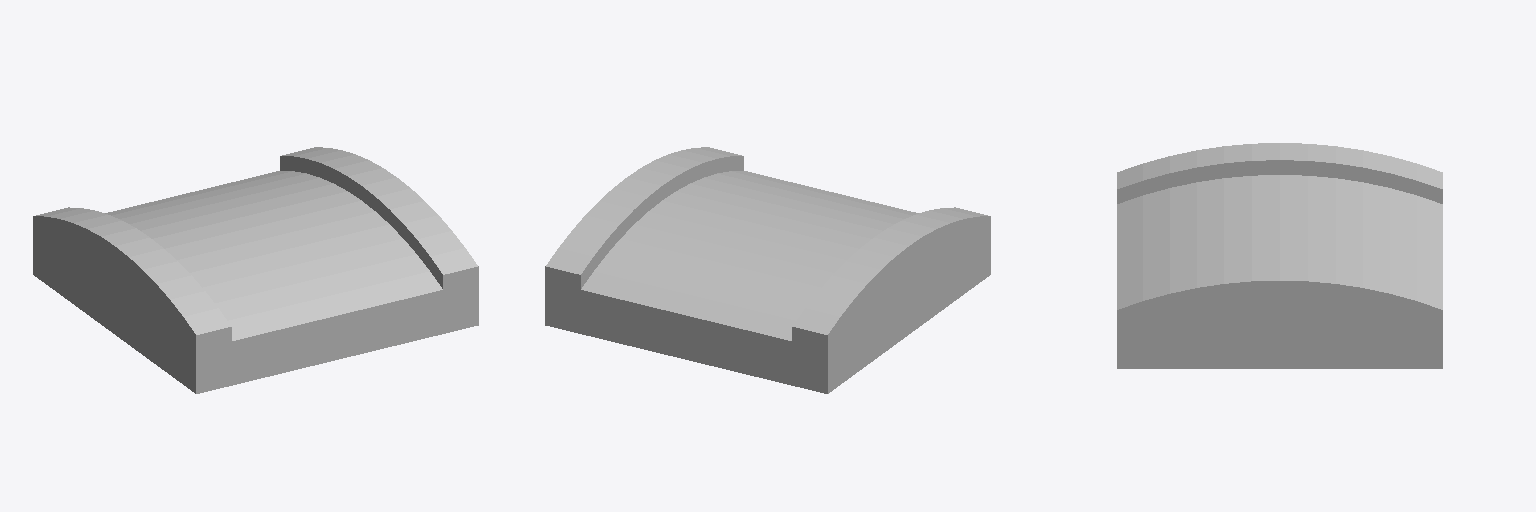
Rendered from tile_bump.obj.
3 renders of one model, left to right at view 1: azimuth 30°, elevation 25°; view 2: azimuth 150°, elevation 25°; view 3: azimuth 270°, elevation 25°, orthographic.
Visible parts, largest first — view 1: tile_bump; view 2: tile_bump; view 3: tile_bump.
Boxes of the visible parts, box(x1,y1,x2,y2) form: tile_bump: box(33, 147, 478, 393); tile_bump: box(545, 147, 990, 393); tile_bump: box(1117, 143, 1442, 368).
Size of the model in its own units: 1 by 0.3 by 1.